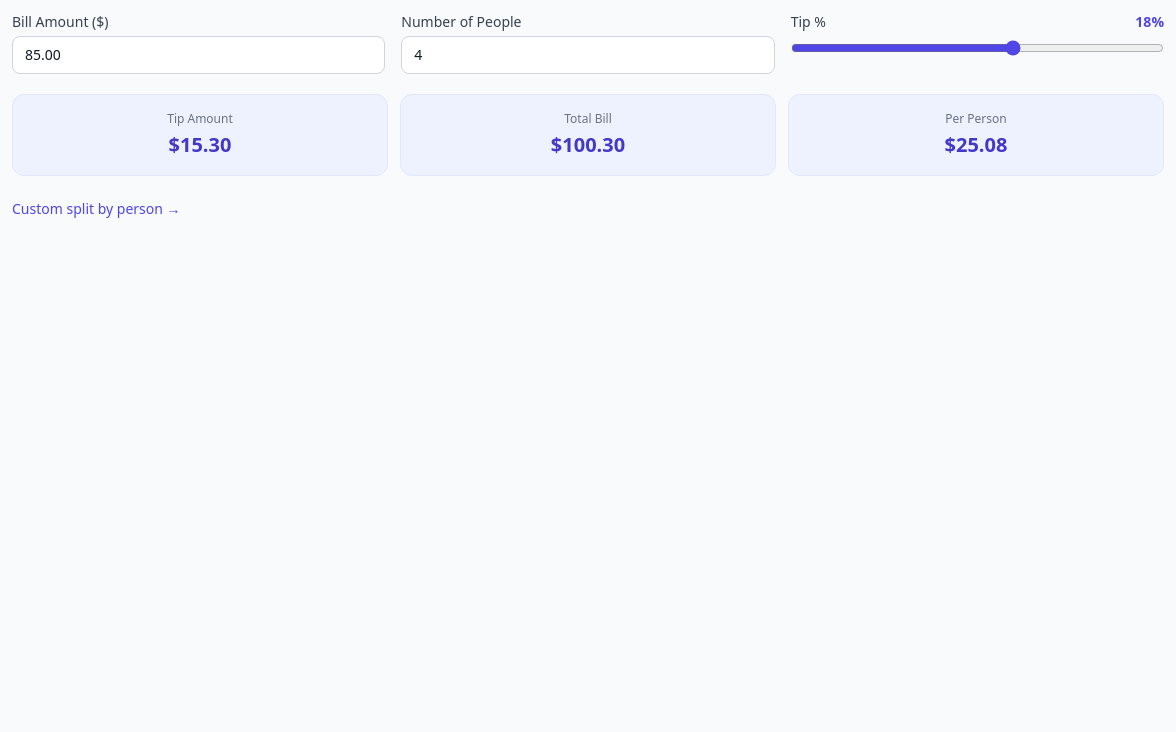
Test: TipSplitter › custom split toggle shows individual name fields
Click the button "Custom split by person →".
click(96, 209)  # box [12,199,181,219]
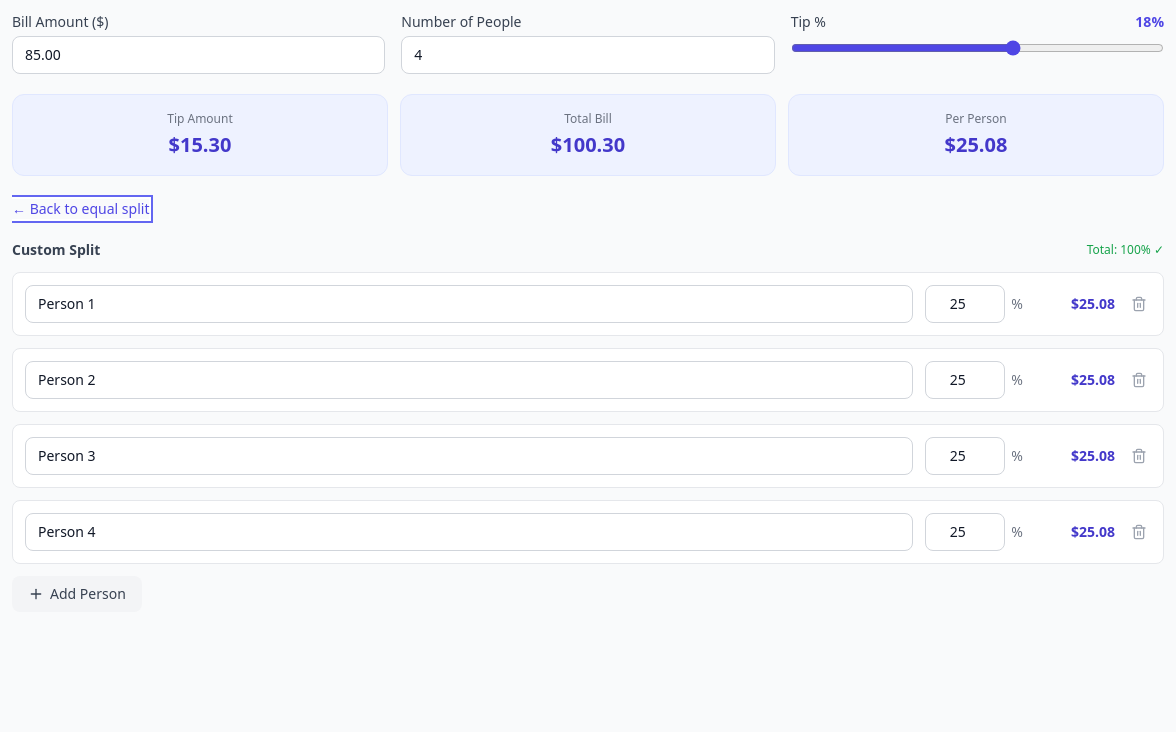
Expected: the 1st field showing "Person 1" is shown, [25,285,913,323]
